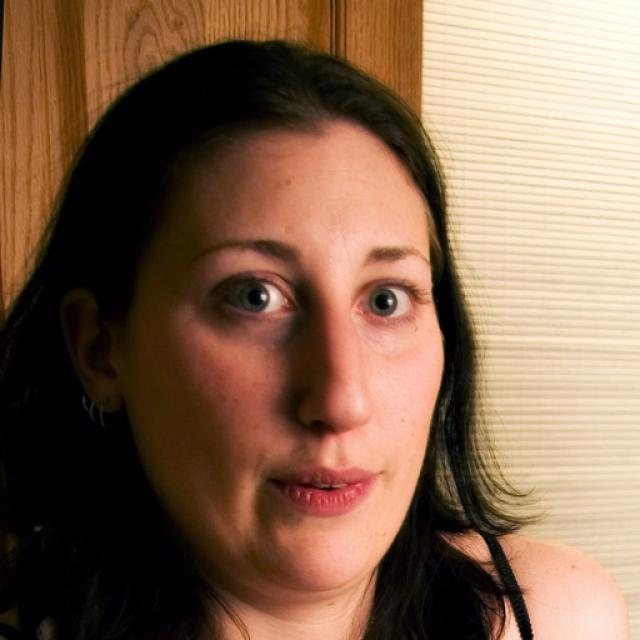surprise: (126, 111, 448, 593)
